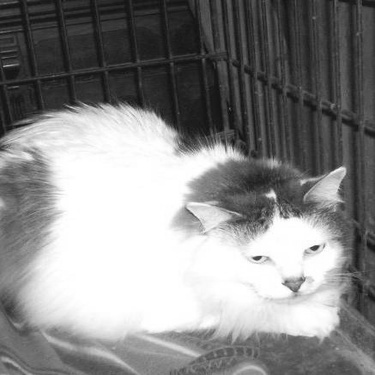cat: (3, 100, 350, 342)
